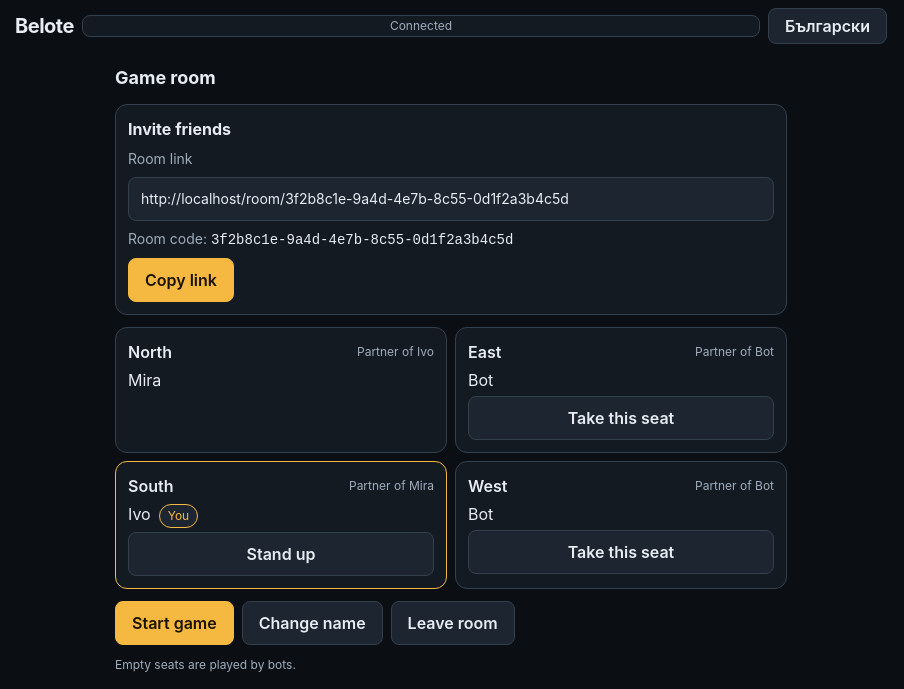
Test: housekeeping (US7) › leaves the room, clears the saved session and returns to the menu
Click the button with test id "leave-room". click: x=453, y=623
box: [391,601,515,645]
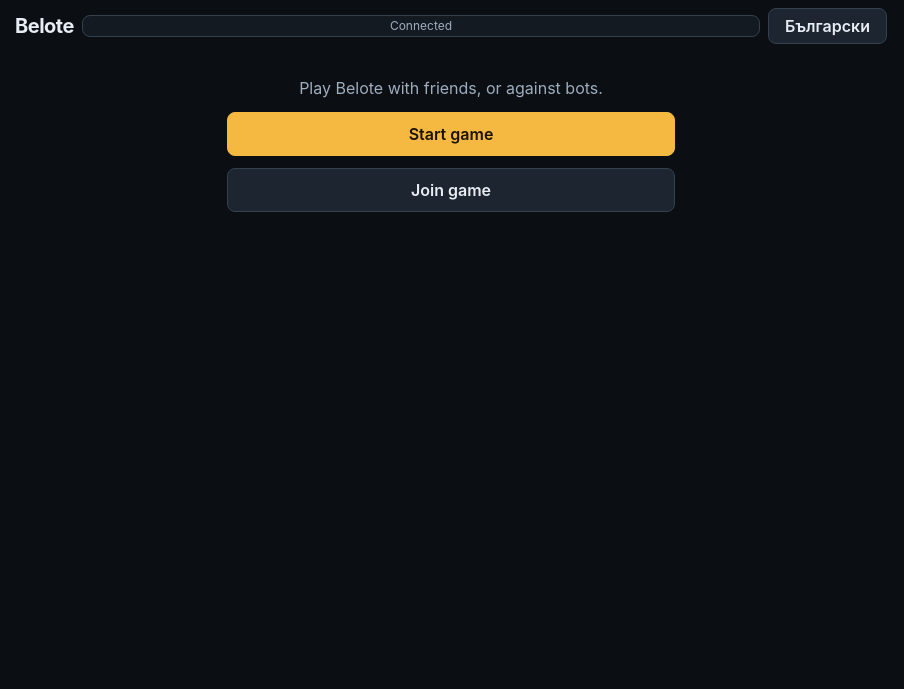
Expected: the element with test id "main-menu" is shown, [227,76,675,212]
